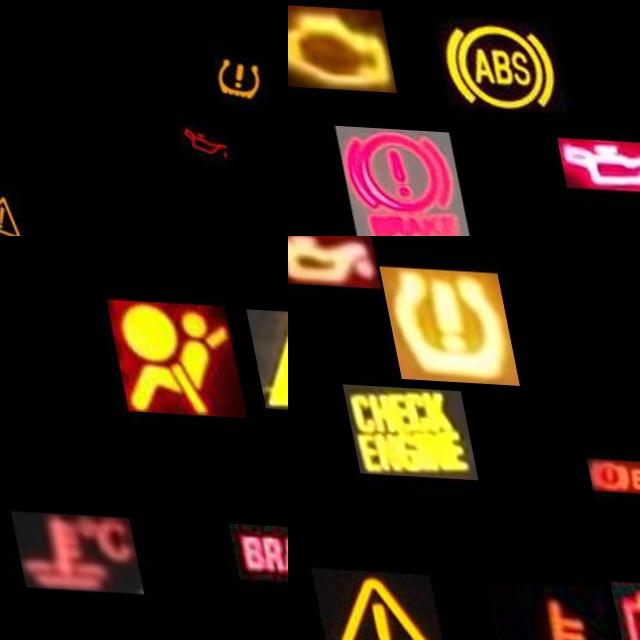Central Warning lamp: (296, 567, 431, 640), (240, 305, 288, 410)
Engine cooling system: (0, 511, 125, 592), (471, 579, 607, 640)
